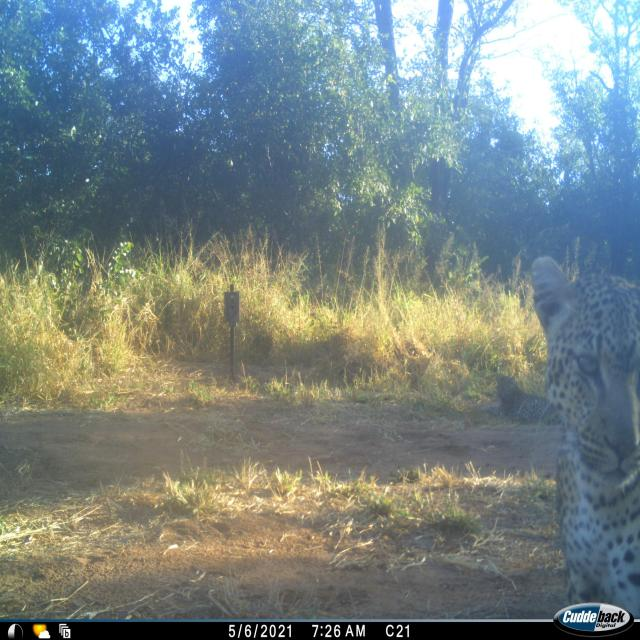Leopard: (529, 241, 640, 640)
